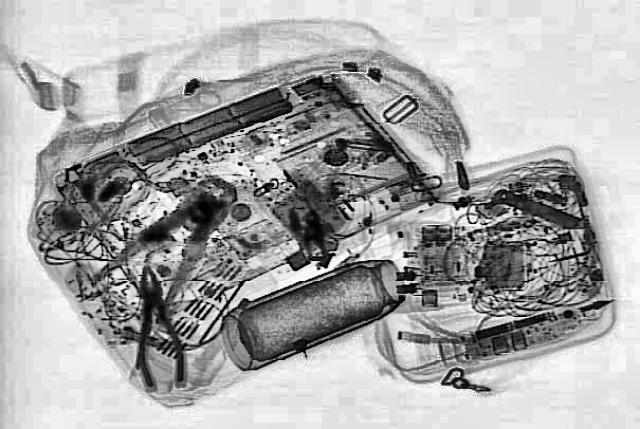Pliers: (71, 165, 272, 325), (120, 266, 186, 386)
